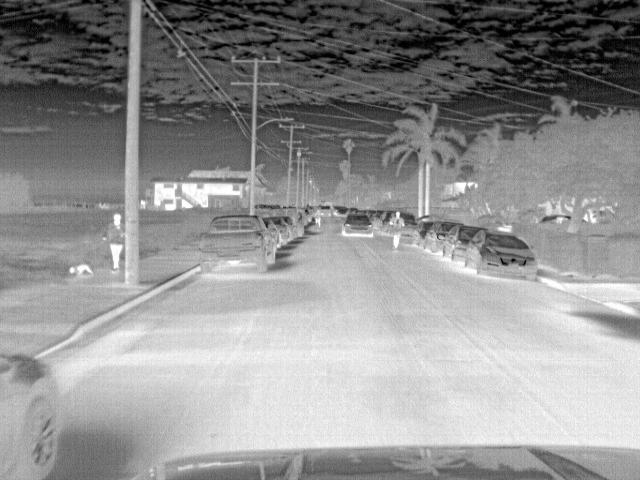car: (3, 349, 64, 476), (198, 213, 275, 270), (466, 231, 541, 282), (445, 225, 485, 265), (426, 221, 463, 254), (272, 206, 305, 236), (341, 211, 375, 239), (266, 215, 290, 243), (415, 222, 435, 250), (280, 215, 300, 240), (334, 206, 349, 220), (319, 206, 333, 218)
dog: (67, 260, 96, 276)
person: (105, 212, 125, 273), (389, 210, 405, 252), (312, 206, 325, 228)
